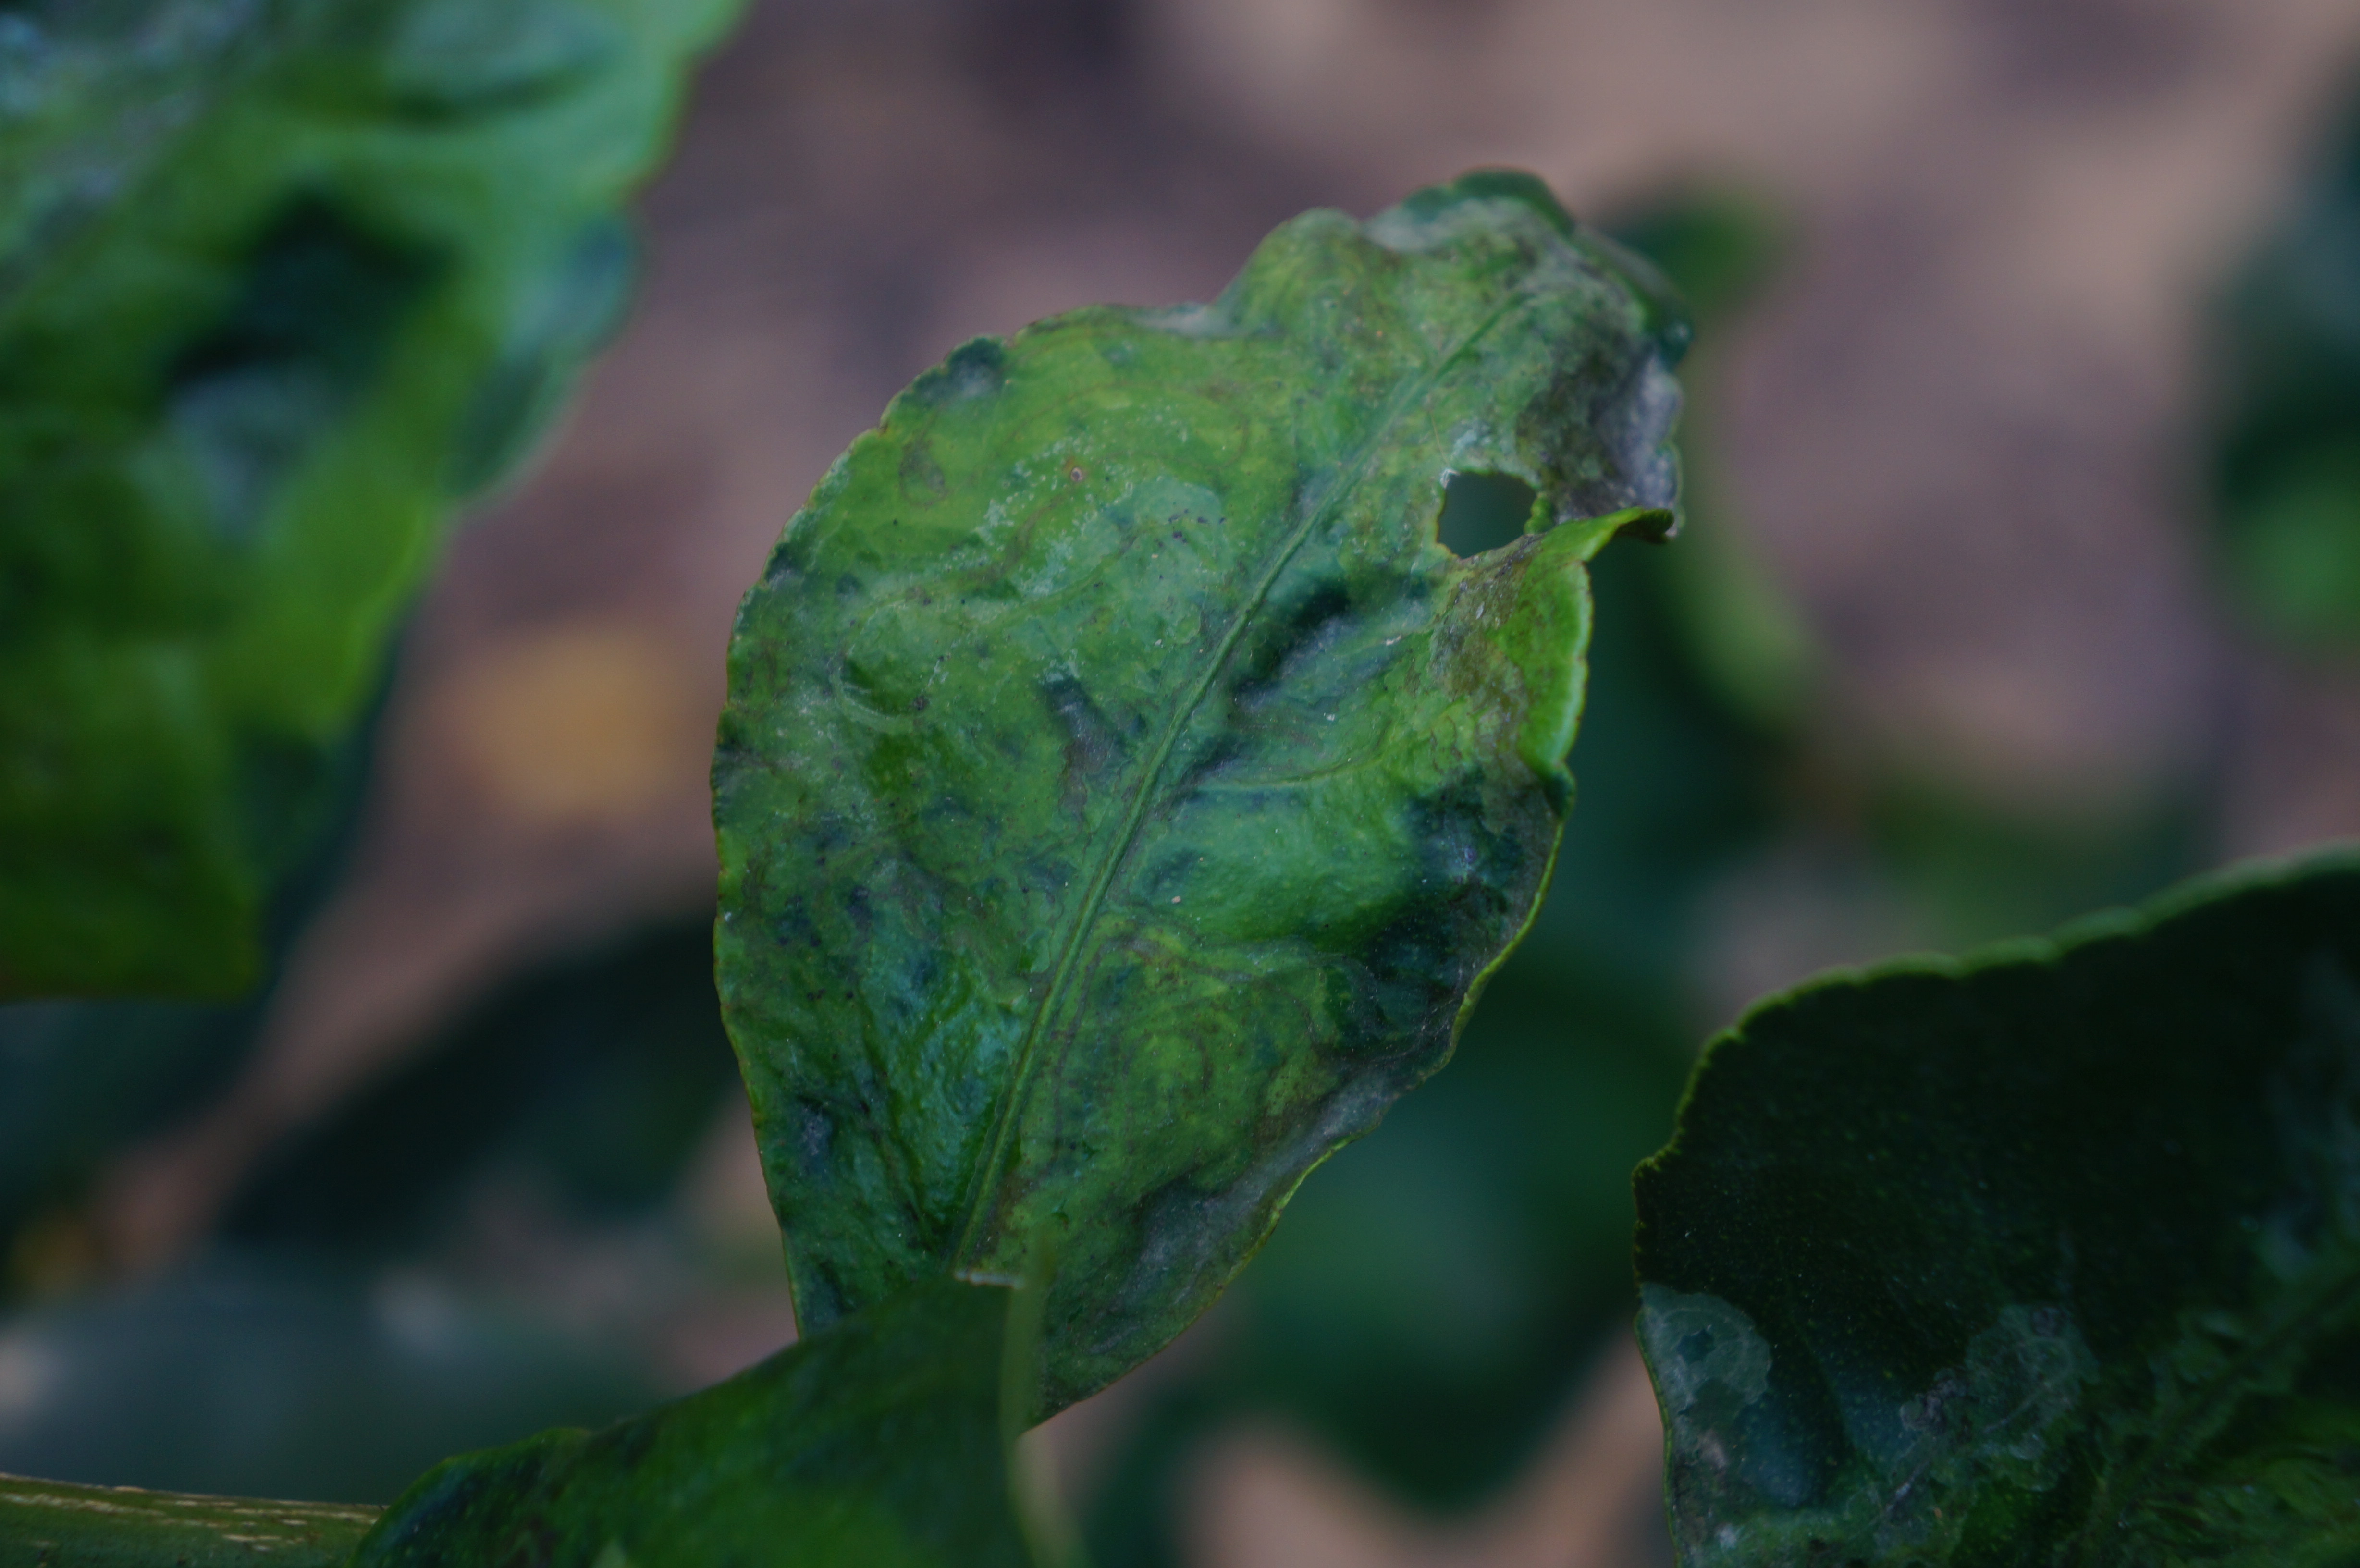damage: (632, 150, 1720, 1466)
